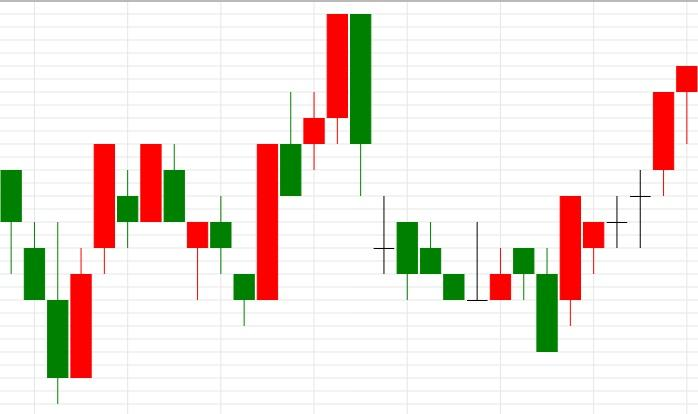bearish_engulfing_fall: (232, 14, 372, 326)
hammer_rise: (139, 144, 210, 300)
hanging_man_fall: (536, 66, 698, 353)
morning_star_rise: (326, 13, 512, 302)
